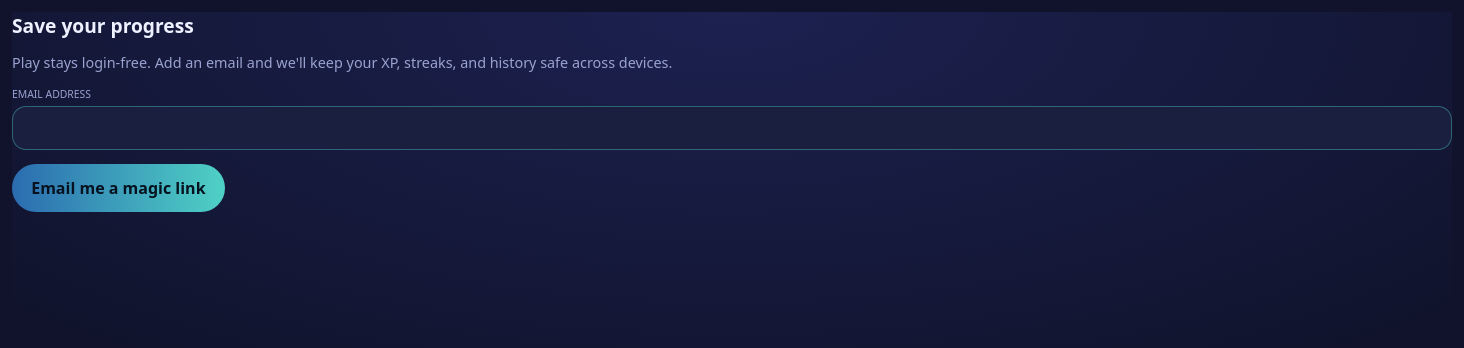
Test: ClaimPanel › shows an error and lets the player retry when the link is invalid
In the field labelled "Email address": coordinates (732, 128) 12,106 -> 1452,150, type "a@b.com"
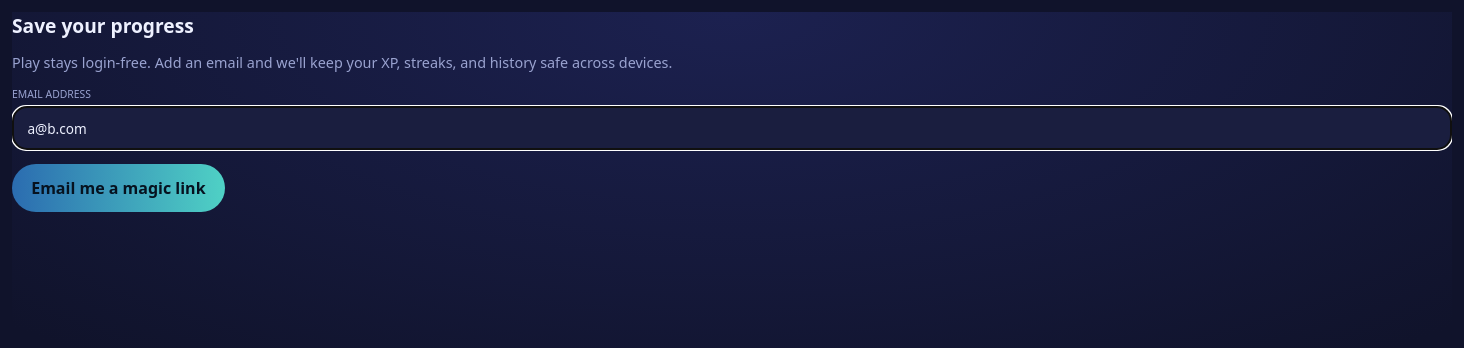
Click the button "Email me a magic link": coordinates (118, 188) 12,164 -> 225,212
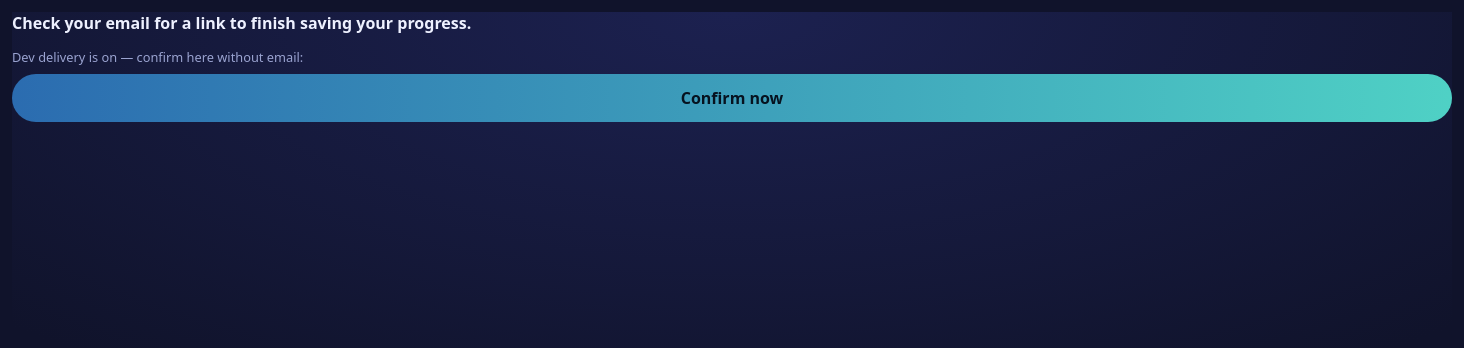
Click the button "Confirm now": coordinates (732, 98) 12,74 -> 1452,122
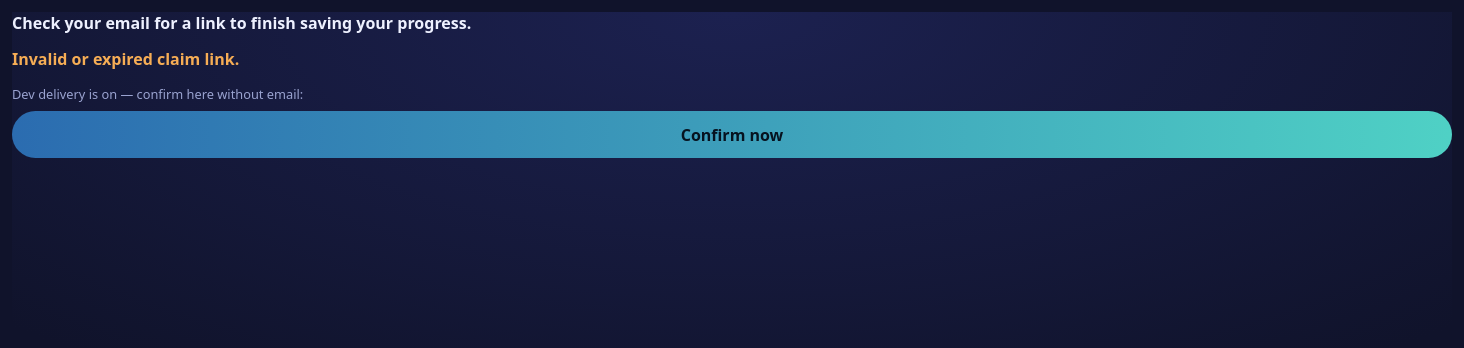
Expected: the button "Confirm now" is shown, 12,111 -> 1452,158
Expected: the message "Invalid or expired claim link." is shown, 12,48 -> 239,70
